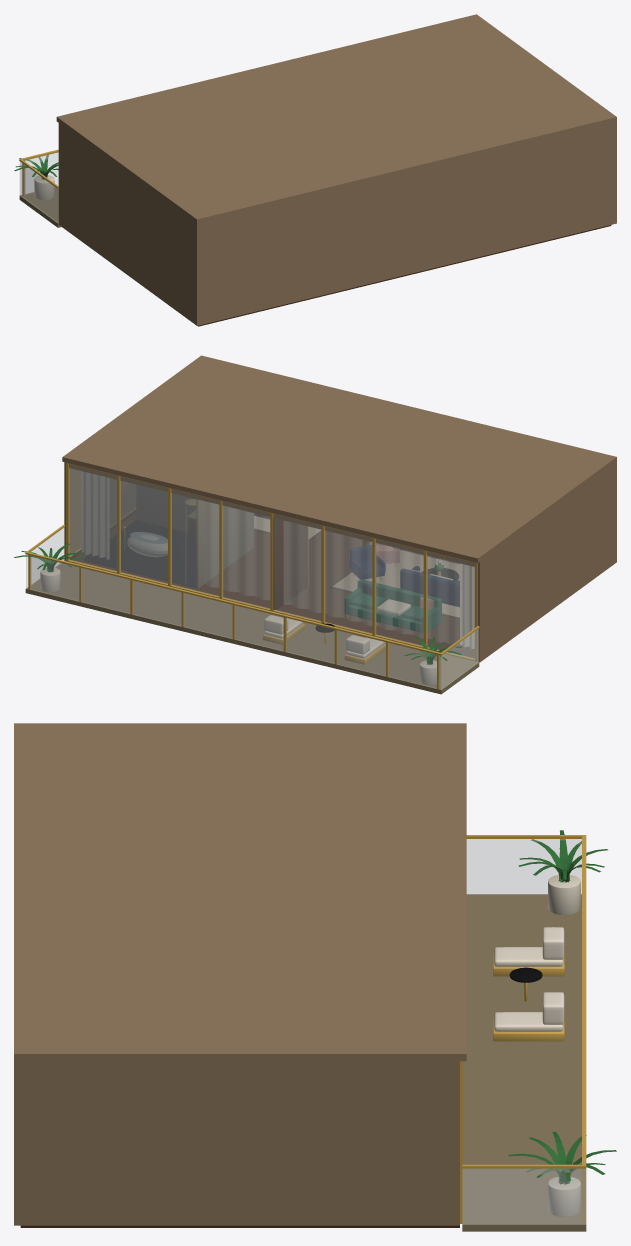
Rendered from room_sky.glb.
3 renders of one model, top to bottom at view 1: azimuth 30°, elevation 25°; view 2: azimuth 150°, elevation 25°; view 3: azimuth 270°, elevation 25°, orthographic. The views are drawn at different scales.
Parts seen in each view (by area): view 1: RmSkyS_LuxPlasterWarm, RmSkyS_LuxGlass, RmSkyS_LuxStoneFine, RmSkyS_LuxHerringbone, RmSkyF_LuxPot; view 2: RmSkyS_LuxPlasterWarm, RmSkyS_LuxGlass, RmSkyS_LuxSheer, RmSkyS_LuxStoneFine, RmSkyF_LuxGlassSmoke, RmSkyS_LuxHerringbone, RmSkyS_LuxGold, RmSkyF_LuxMarbleWhite, RmSkyS_LuxVelvetCream, RmSkyF_LuxMarbleBlack, RmSkyF_LuxFlutedWalnut, RmSkyF_LuxVelvetEmerald (+8 smaller); view 3: RmSkyS_LuxPlasterWarm, RmSkyS_LuxStoneFine, RmSkyS_LuxGlass, RmSkyF_LuxLinen, RmSkyS_LuxGold, RmSkyF_LuxLeaf, RmSkyF_LuxPot, RmSkyF_LuxGoldBrushed, RmSkyS_LuxHerringbone.
Part boxes in pixels (left/top/right/bottom): RmSkyS_LuxPlasterWarm: left=56, top=14, right=616, bottom=325; RmSkyS_LuxGlass: left=20, top=153, right=58, bottom=223; RmSkyS_LuxStoneFine: left=19, top=187, right=61, bottom=227; RmSkyS_LuxHerringbone: left=198, top=225, right=611, bottom=326; RmSkyF_LuxPot: left=34, top=175, right=54, bottom=199; RmSkyS_LuxPlasterWarm: left=62, top=355, right=616, bottom=662; RmSkyS_LuxGlass: left=26, top=464, right=478, bottom=689; RmSkyS_LuxSheer: left=205, top=502, right=473, bottom=644; RmSkyS_LuxStoneFine: left=25, top=563, right=479, bottom=694; RmSkyF_LuxGlassSmoke: left=81, top=471, right=197, bottom=588; RmSkyS_LuxHerringbone: left=72, top=513, right=474, bottom=657; RmSkyS_LuxGold: left=25, top=462, right=479, bottom=689; RmSkyF_LuxMarbleWhite: left=136, top=485, right=253, bottom=587; RmSkyS_LuxVelvetCream: left=81, top=471, right=474, bottom=648; RmSkyF_LuxMarbleBlack: left=84, top=520, right=458, bottom=632; RmSkyF_LuxFlutedWalnut: left=189, top=513, right=369, bottom=610; RmSkyF_LuxVelvetEmerald: left=344, top=579, right=441, bottom=632; RmSkyS_LuxPlasterWarm: left=14, top=723, right=466, bottom=1225; RmSkyS_LuxStoneFine: left=462, top=894, right=586, bottom=1231; RmSkyS_LuxGlass: left=462, top=839, right=585, bottom=1224; RmSkyF_LuxLinen: left=494, top=927, right=564, bottom=1031; RmSkyS_LuxGold: left=460, top=835, right=586, bottom=1223; RmSkyF_LuxLeaf: left=508, top=830, right=616, bottom=1184; RmSkyF_LuxPot: left=548, top=875, right=580, bottom=1216; RmSkyF_LuxGoldBrushed: left=493, top=952, right=564, bottom=1041; RmSkyS_LuxHerringbone: left=20, top=1225, right=459, bottom=1227.
Bounding box in the file's own units: 14.99 × 3.57 × 10.98.
